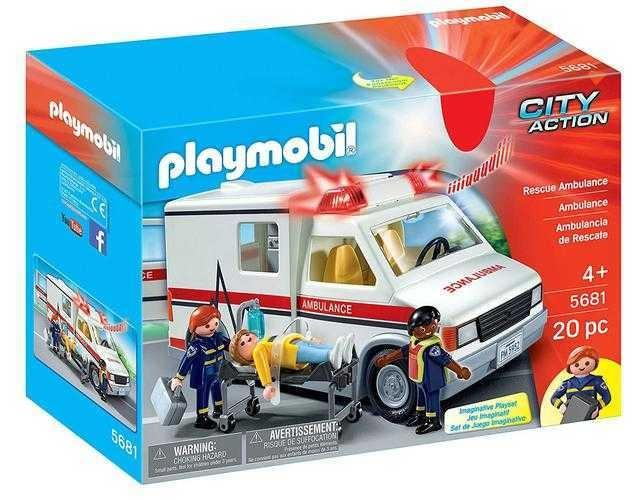car: (162, 164, 548, 426)
